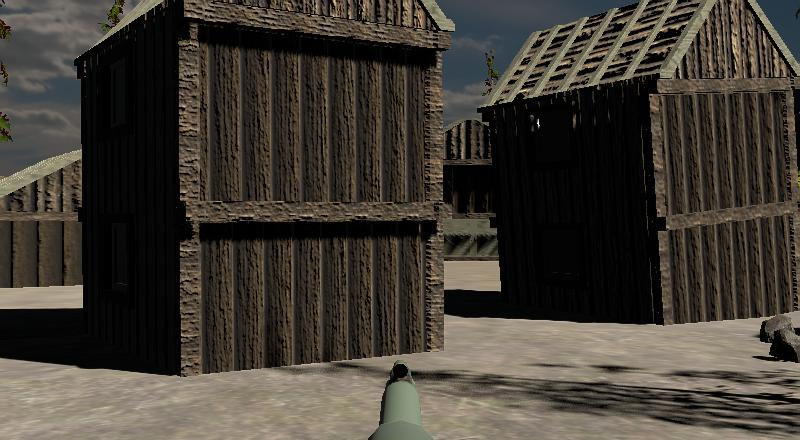House: (72, 1, 464, 378), (478, 1, 800, 325), (0, 152, 84, 289), (440, 120, 496, 216)
